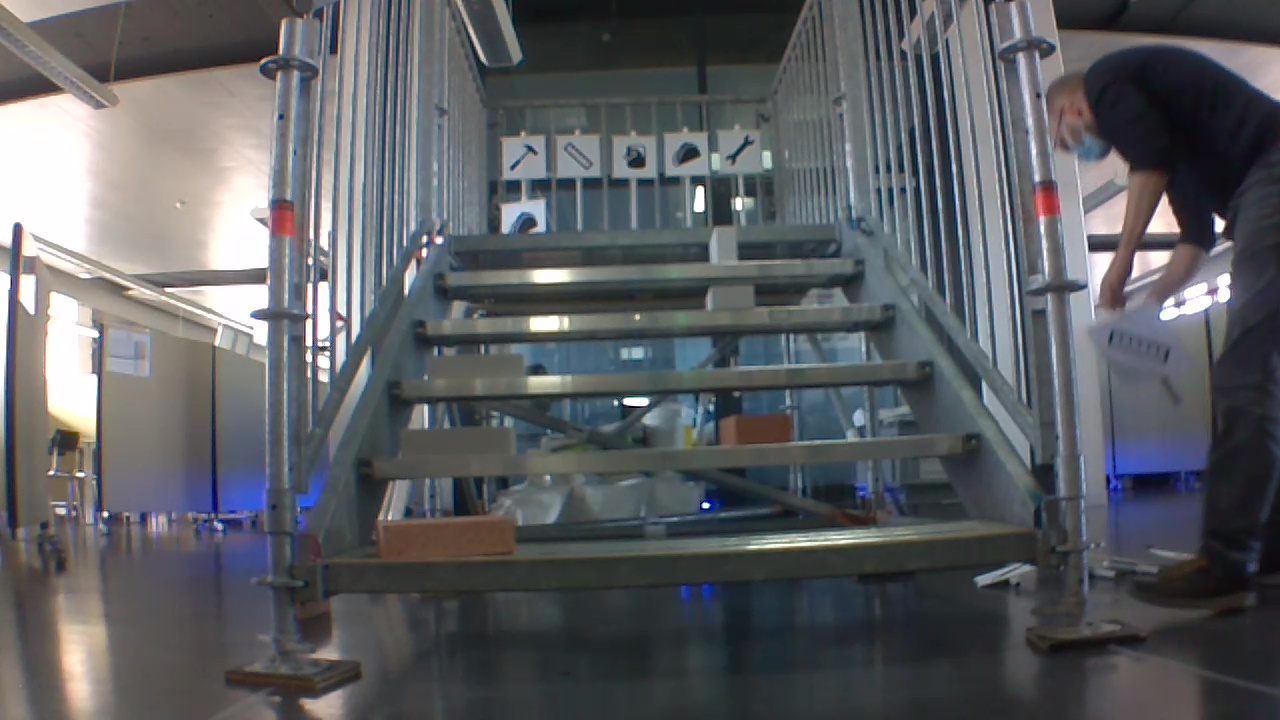brick: (378, 512, 523, 556), (420, 355, 524, 387), (403, 426, 517, 454), (712, 410, 797, 446), (708, 226, 738, 267), (699, 288, 757, 307)
bucket: (620, 141, 647, 172)
edge: (306, 521, 1034, 598), (366, 427, 981, 485), (390, 368, 931, 397), (431, 258, 864, 287), (449, 224, 839, 245), (416, 314, 900, 323)
hammer: (508, 142, 541, 172)
ruler: (561, 138, 595, 172)
stairs: (261, 0, 1070, 700)
steps: (309, 225, 1040, 606)
taco: (671, 139, 703, 169), (521, 208, 541, 223)
wrench: (725, 131, 756, 168)
